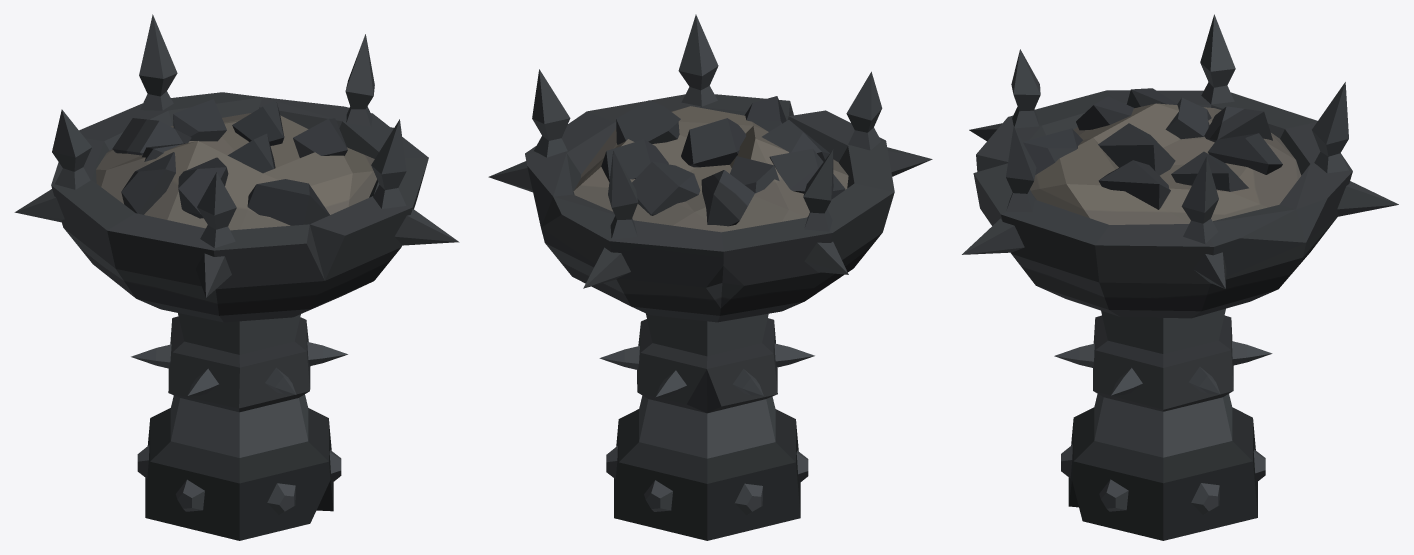
The model's file is brazier.gltf.
3 views of the same model, side by side, from view 1: azimuth 30°, elevation 25°; view 2: azimuth 150°, elevation 25°; view 3: azimuth 270°, elevation 25° (orthographic).
Visible parts, largest first — view 1: brazier; view 2: brazier; view 3: brazier.
Boxes of the visible parts, <box> form: brazier: <box>14,14,459,540</box>; brazier: <box>488,14,932,540</box>; brazier: <box>962,14,1398,540</box>.
Bounding box in the file's own units: 1.16 × 1.23 × 1.17.
Materials: 1 (1 with a texture image).
